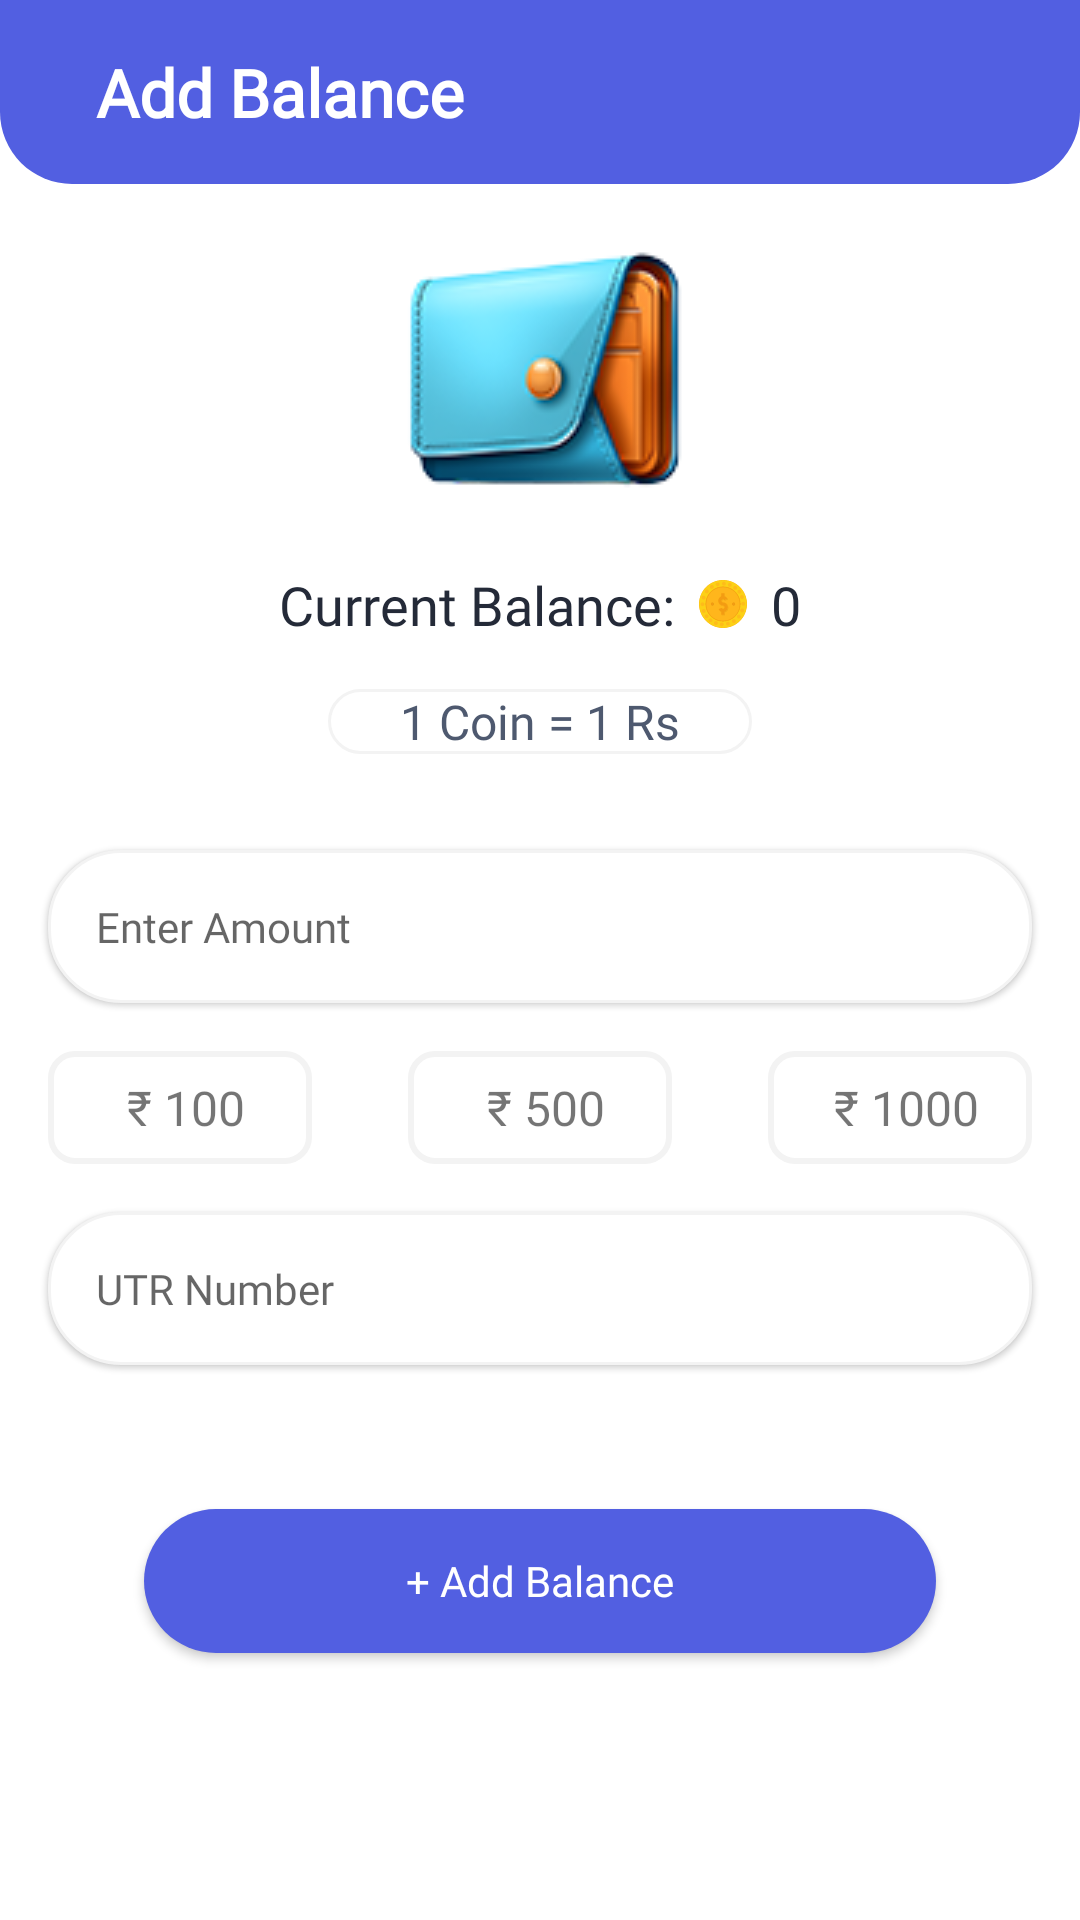

Icon click points for this 1080x1920 phone screenshot, format (x=x, y=y):
wallet: (x=545, y=368)
